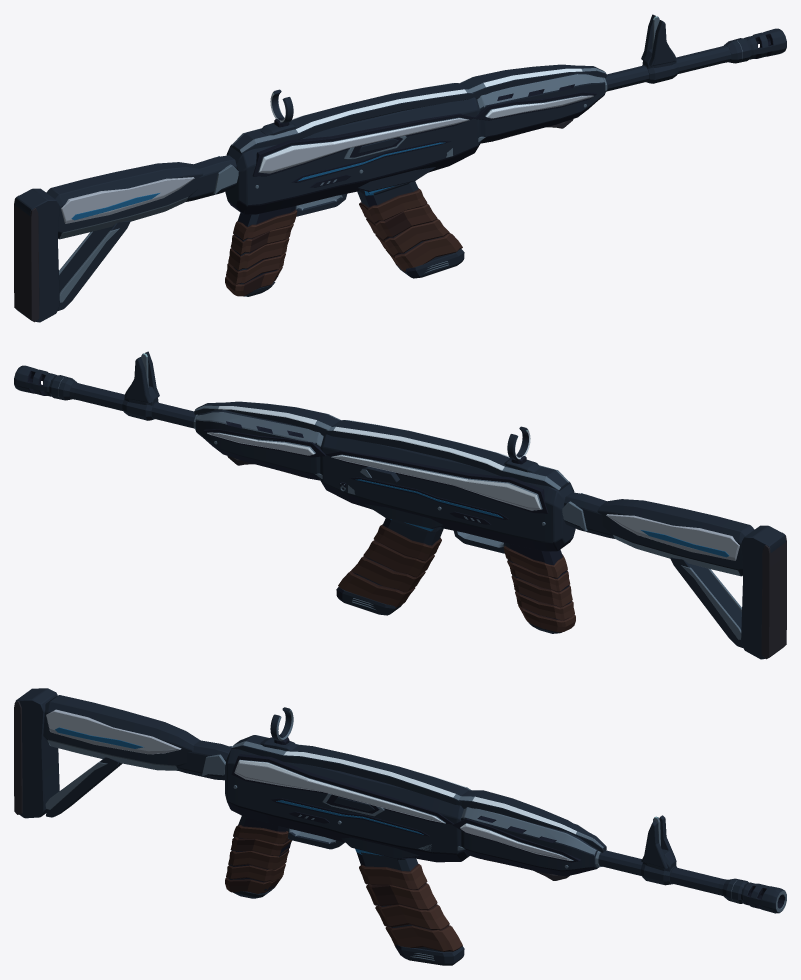
The model's file is Vandal_StormShadow_v08.glb.
The picture shows the model from 3 angles, top to bottom: view 1: azimuth 30°, elevation 25°; view 2: azimuth 150°, elevation 25°; view 3: azimuth 330°, elevation 25°; orthographic projection.
Parts seen in each view (by area): view 1: Receiver_IndigoForging.001, Stock_SweptCheek.001, UpperSpine_ProwBrow.001, Shroud_OctagonalForging.001, Stock_HeelForging.001, Stock_ButtPad.001, Rear_SilverPlate_Far.001, Stock_CheekBlade.003, Shroud_DorsalBlade.001, Stock_AftDiagonalStrut.001, Barrel_ExposedBluedStem.001, Rear_DovetailBed_Far.001 (+21 smaller); view 2: Receiver_IndigoForging.001, Stock_SweptCheek.001, UpperSpine_ProwBrow.001, Shroud_OctagonalForging.001, Stock_HeelForging.001, Stock_ButtPad.001, Rear_SilverPlate_Player.001, Stock_CheekBlade.002, Shroud_DorsalBlade.001, Stock_AftDiagonalStrut.001, Rear_DovetailBed_Player.001, Barrel_ExposedBluedStem.001 (+21 smaller); view 3: Receiver_IndigoForging.001, Stock_SweptCheek.001, Shroud_OctagonalForging.001, UpperSpine_ProwBrow.001, Stock_HeelForging.001, Rear_SilverPlate_Far.001, Shroud_DorsalBlade.001, Stock_CheekBlade.003, Rear_DovetailBed_Far.001, Barrel_ExposedBluedStem.001, Mag_LeatherBind_04.001, Mag_LeatherBind_03.001 (+22 smaller).
Part boxes in pixels (x1,y1,x2,y2): Receiver_IndigoForging.001: [225, 97, 482, 214]; Stock_SweptCheek.001: [46, 162, 202, 239]; UpperSpine_ProwBrow.001: [231, 83, 477, 154]; Shroud_OctagonalForging.001: [477, 73, 605, 143]; Stock_HeelForging.001: [15, 188, 59, 322]; Stock_ButtPad.001: [14, 195, 39, 322]; Rear_SilverPlate_Far.001: [258, 117, 469, 173]; Stock_CheekBlade.003: [61, 177, 194, 223]; Shroud_DorsalBlade.001: [460, 64, 606, 98]; Stock_AftDiagonalStrut.001: [57, 220, 130, 311]; Barrel_ExposedBluedStem.001: [605, 45, 731, 91]; Rear_DovetailBed_Far.001: [252, 113, 475, 176]; Receiver_IndigoForging.001: [318, 434, 575, 551]; Stock_SweptCheek.001: [597, 499, 754, 576]; UpperSpine_ProwBrow.001: [323, 420, 569, 491]; Shroud_OctagonalForging.001: [195, 410, 323, 480]; Stock_HeelForging.001: [741, 525, 785, 659]; Stock_ButtPad.001: [761, 532, 786, 659]; Rear_SilverPlate_Player.001: [331, 454, 542, 510]; Stock_CheekBlade.002: [606, 514, 739, 560]; Shroud_DorsalBlade.001: [194, 401, 340, 435]; Stock_AftDiagonalStrut.001: [670, 557, 743, 648]; Rear_DovetailBed_Player.001: [325, 450, 548, 513]; Barrel_ExposedBluedStem.001: [69, 382, 195, 428]; Receiver_IndigoForging.001: [225, 749, 469, 862]; Stock_SweptCheek.001: [43, 695, 199, 770]; Shroud_OctagonalForging.001: [461, 807, 598, 876]; UpperSpine_ProwBrow.001: [231, 735, 471, 808]; Stock_HeelForging.001: [15, 688, 59, 818]; Rear_SilverPlate_Far.001: [234, 759, 445, 823]; Shroud_DorsalBlade.001: [459, 790, 606, 852]; Stock_CheekBlade.003: [46, 709, 181, 754]; Rear_DovetailBed_Far.001: [231, 754, 453, 824]; Barrel_ExposedBluedStem.001: [598, 850, 727, 896]; Mag_LeatherBind_04.001: [385, 925, 462, 951]; Mag_LeatherBind_03.001: [375, 904, 449, 930].
Bounding box in the file's own units: 3.9 × 1.04 × 0.252.
